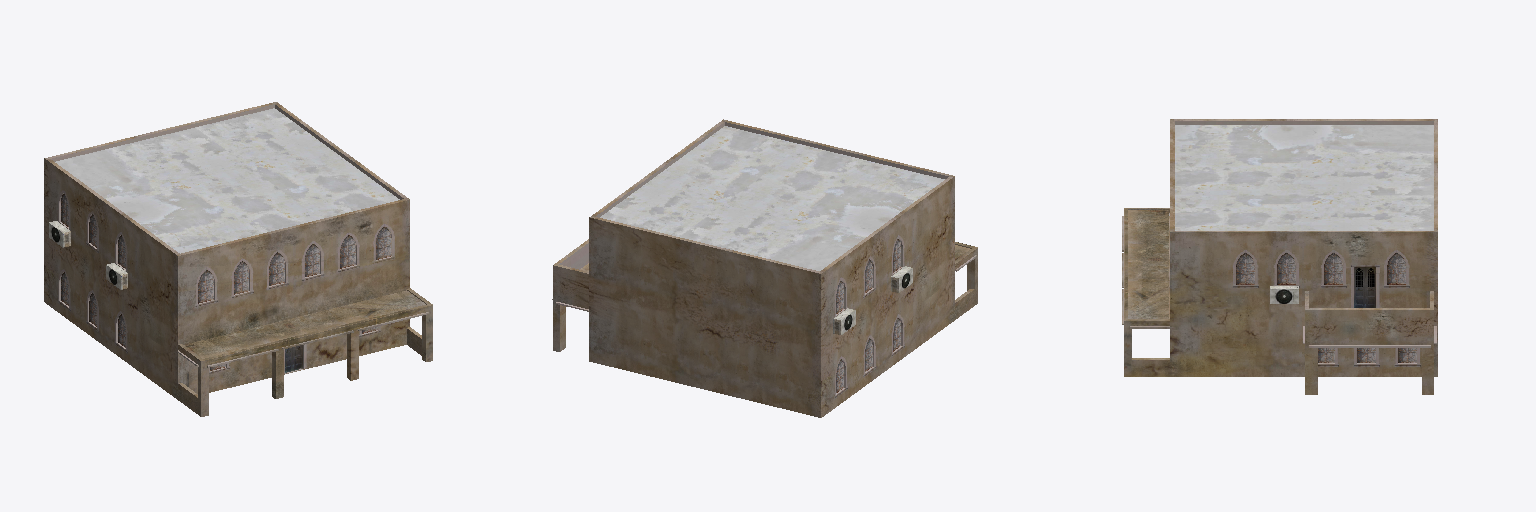
3 views of the same model, side by side, from view 1: azimuth 30°, elevation 25°; view 2: azimuth 150°, elevation 25°; view 3: azimuth 270°, elevation 25° (orthographic).
Parts seen in each view (by area): view 1: ArabBuild1; view 2: ArabBuild1; view 3: ArabBuild1.
Boxes of the visible parts, x1,y1,x2,y2 form: ArabBuild1: [44, 102, 432, 416]; ArabBuild1: [552, 119, 977, 417]; ArabBuild1: [1122, 119, 1437, 394].
Bounding box in the file's own units: 8.67 × 4.26 × 8.46.
Materials: 1 (1 with a texture image).